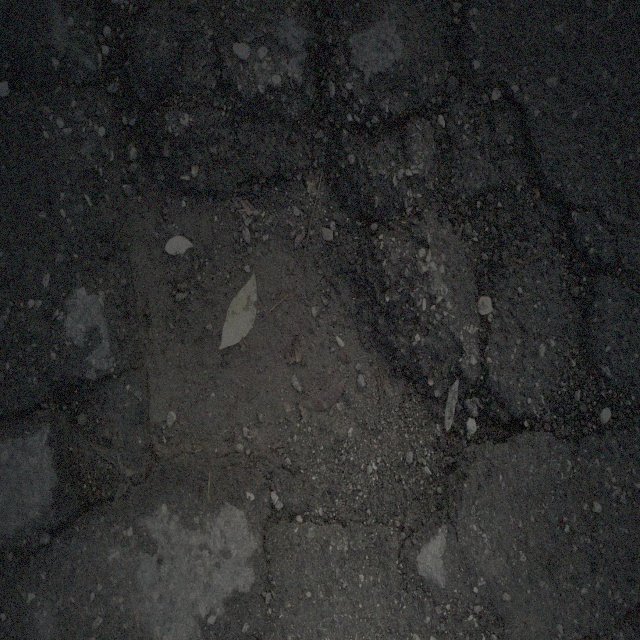pothole: (111, 131, 495, 559)
